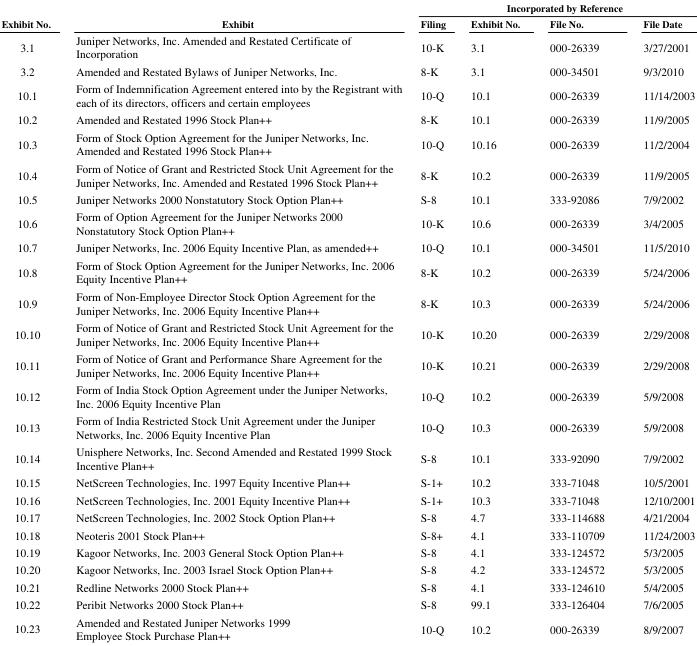table: (0, 0, 694, 642)
table column: (62, 0, 410, 642), (534, 0, 623, 642), (457, 0, 534, 642), (623, 0, 694, 642), (0, 0, 62, 642), (410, 0, 457, 642)
table column header: (0, 0, 694, 31)
table row: (0, 348, 694, 380), (0, 79, 694, 110), (0, 127, 694, 158), (0, 158, 694, 189), (0, 207, 694, 238), (0, 255, 694, 286), (0, 286, 694, 317), (0, 317, 694, 348), (0, 380, 694, 411), (0, 411, 694, 442), (0, 442, 694, 473), (0, 31, 694, 61), (0, 612, 694, 642), (0, 61, 694, 79), (0, 189, 694, 207), (0, 490, 694, 508), (0, 542, 694, 560), (0, 577, 694, 595), (0, 110, 694, 127), (0, 238, 694, 255), (0, 473, 694, 490), (0, 508, 694, 525), (0, 525, 694, 542), (0, 560, 694, 577), (0, 595, 694, 612), (0, 15, 694, 31), (0, 0, 694, 15)
table spanning cell: (62, 0, 410, 31), (410, 0, 694, 15), (0, 0, 62, 31)
